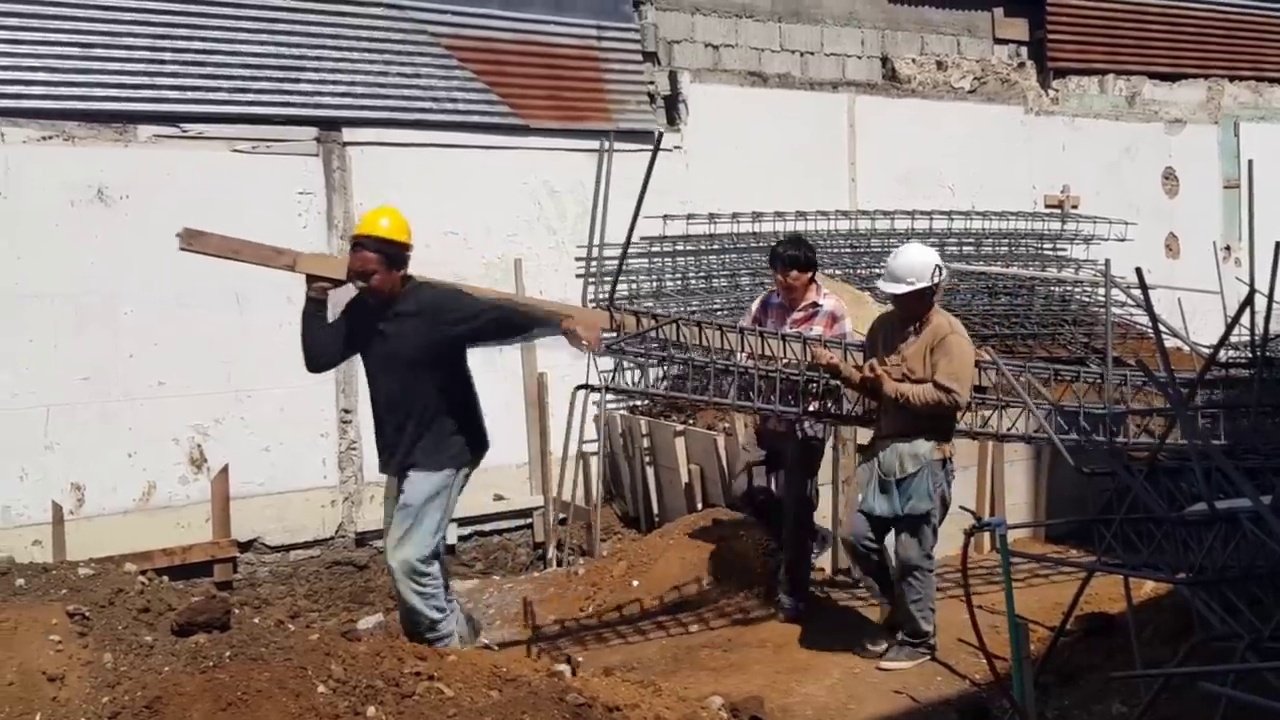helmet: (886, 238, 950, 294), (340, 205, 413, 254)
helmet-off: (770, 236, 824, 306)
helmet-on: (337, 204, 423, 304), (886, 238, 964, 326)
person: (304, 204, 542, 669), (819, 234, 971, 671), (737, 234, 850, 621)
